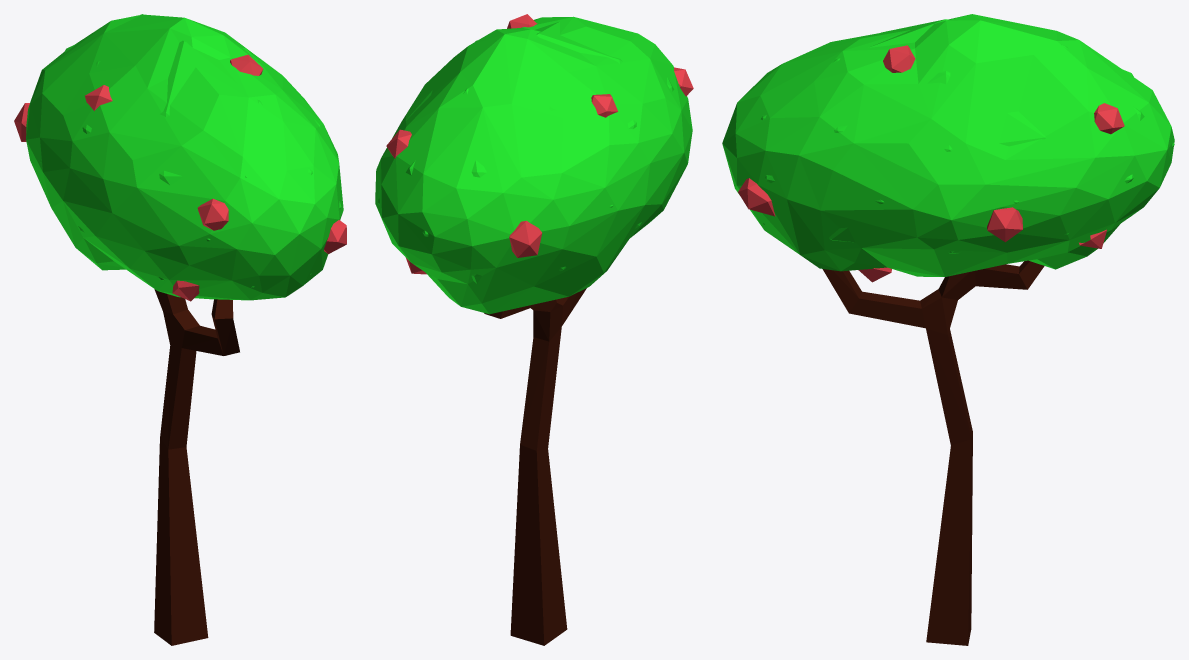
File: tree5_v2.fbx
3 renders of one model, left to right at view 1: azimuth 30°, elevation 25°; view 2: azimuth 150°, elevation 25°; view 3: azimuth 270°, elevation 25°, orthographic. The views are drawn at different scales.
Visible parts, largest first — view 1: Icosphere; view 2: Icosphere; view 3: Icosphere.
Boxes of the visible parts, <box> form: Icosphere: <box>14,14,346,645</box>; Icosphere: <box>375,14,693,645</box>; Icosphere: <box>722,14,1174,645</box>.
Size of the model in its own units: 346 by 822 by 538.
